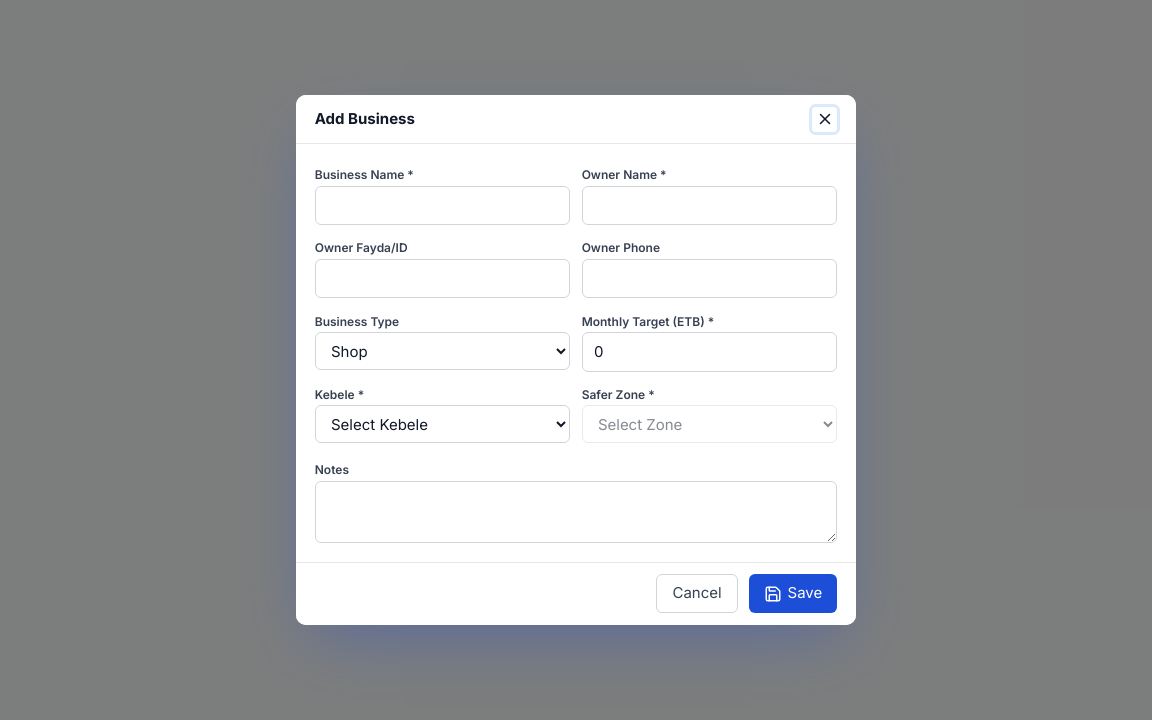
Test: Business form validation (real component) › rejects an invalid Fayda id (not 12 digits)
Type "New Shop" into the field labelled "Business Name *" at {"x": 443, "y": 205}, box [315,186,570,225]
Type "Owner X" into the field labelled "Owner Name *" at {"x": 709, "y": 205}, box [582,186,837,225]
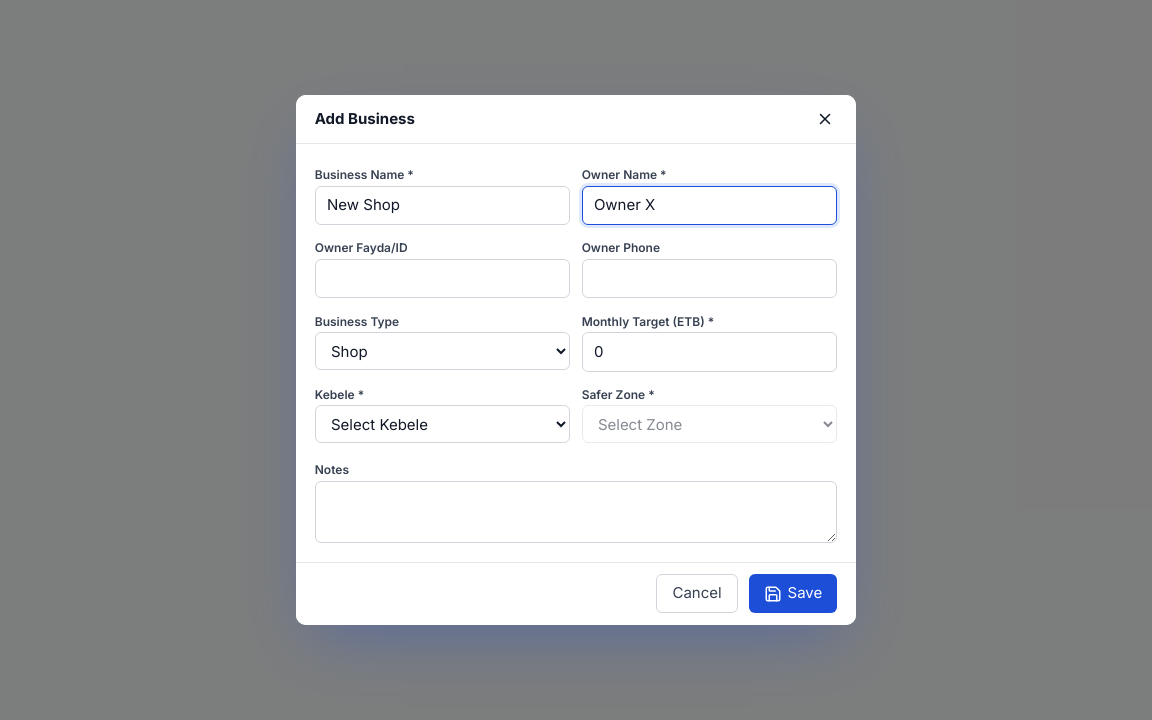
Type "12345" into the field labelled "Owner Fayda/ID" at {"x": 443, "y": 279}, box [315,259,570,298]
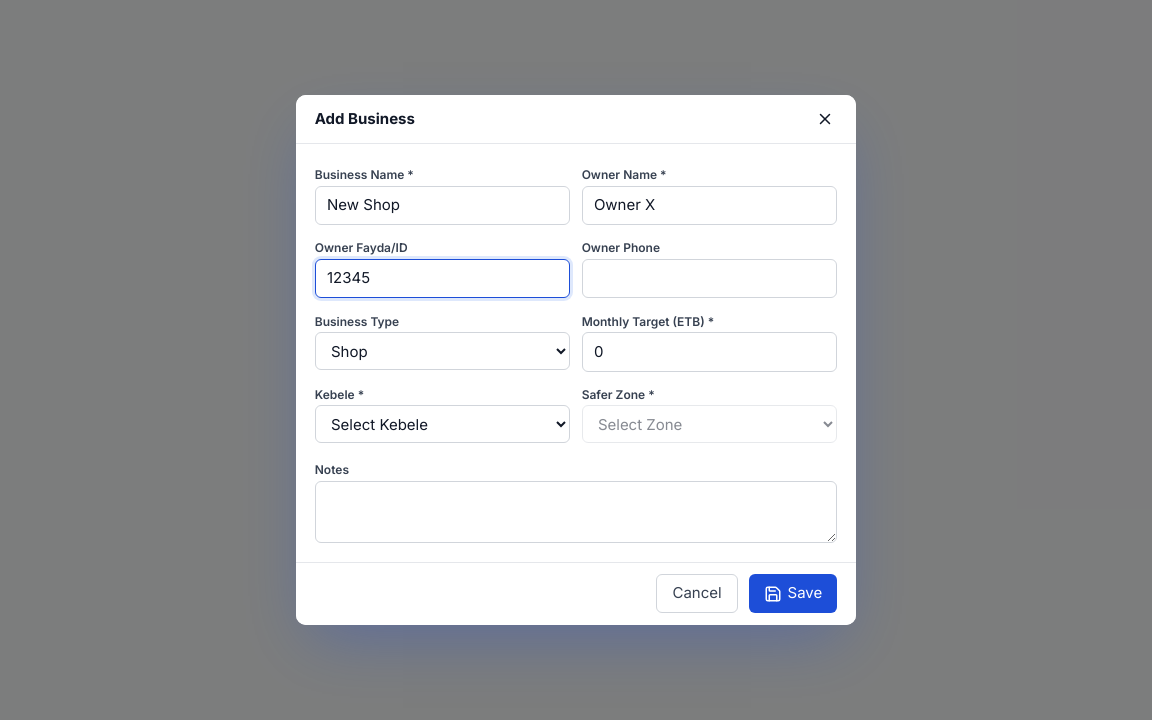
Replace the text in the number field labelled "Monthly Target (ETB) *" with "500" at {"x": 709, "y": 352}, box [582,332,837,372]
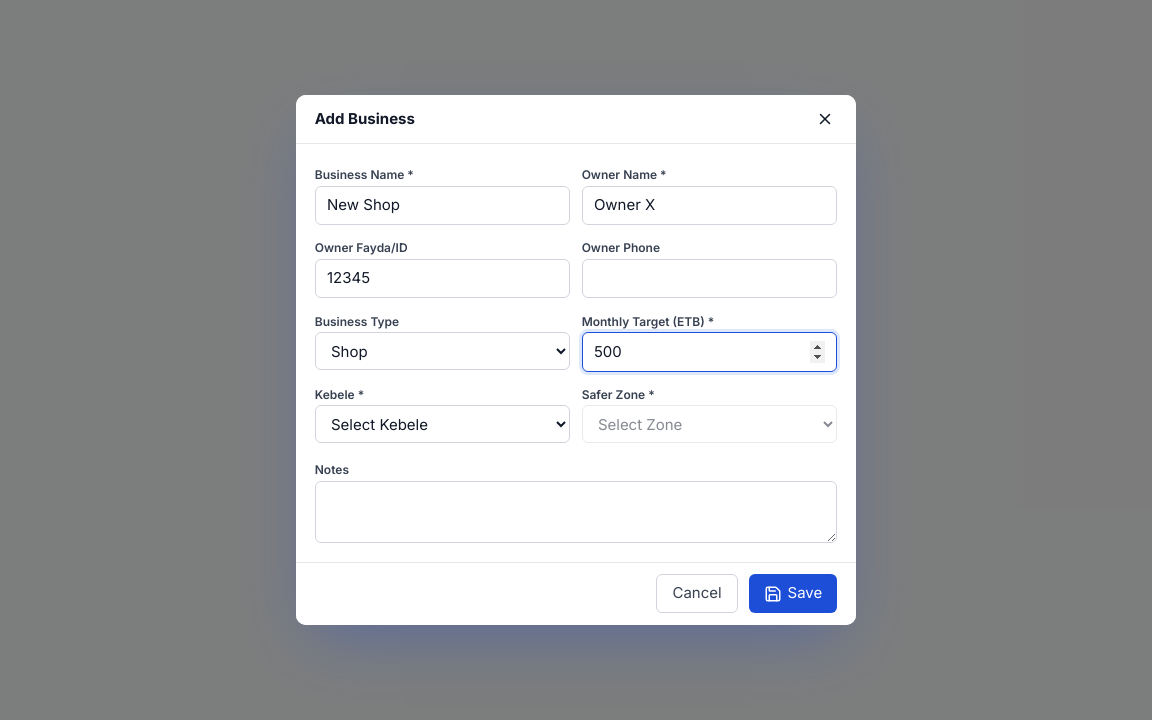
Select "K05" in the dropdown labelled "Kebele *" at {"x": 443, "y": 424}, box [315,405,570,443]
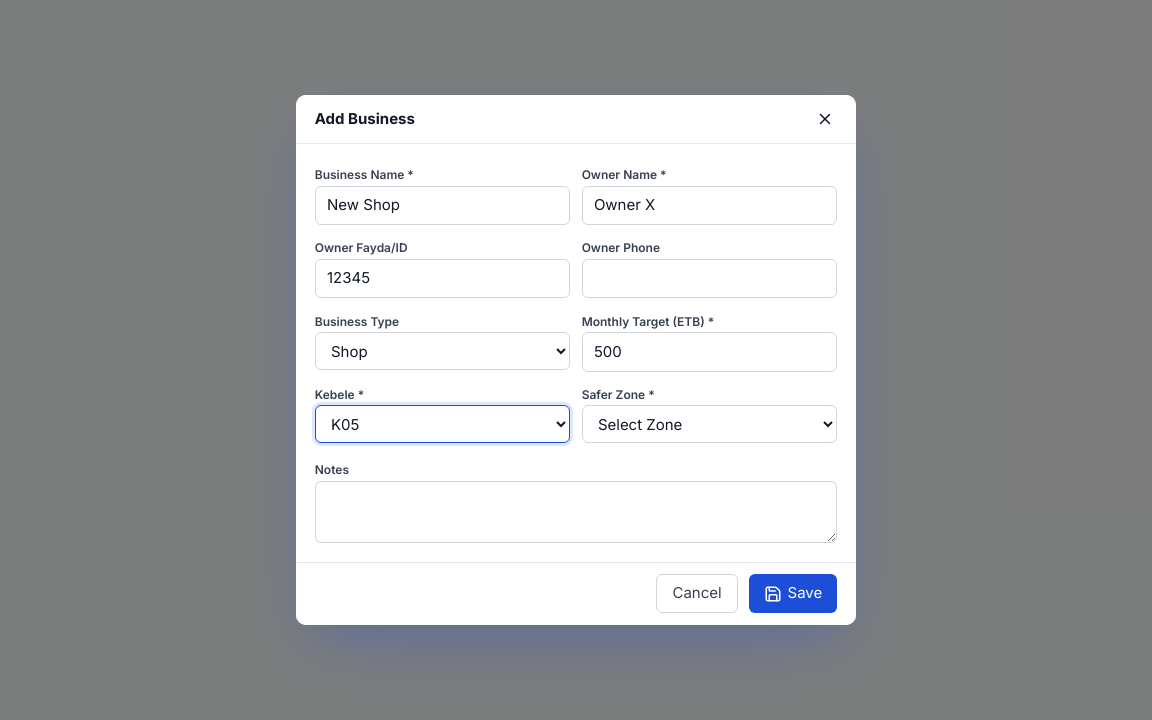
Check: the dropdown labelled "Safer Zone *" is enabled
Select "Zone 10" in the dropdown labelled "Safer Zone *" at {"x": 709, "y": 424}, box [582,405,837,443]
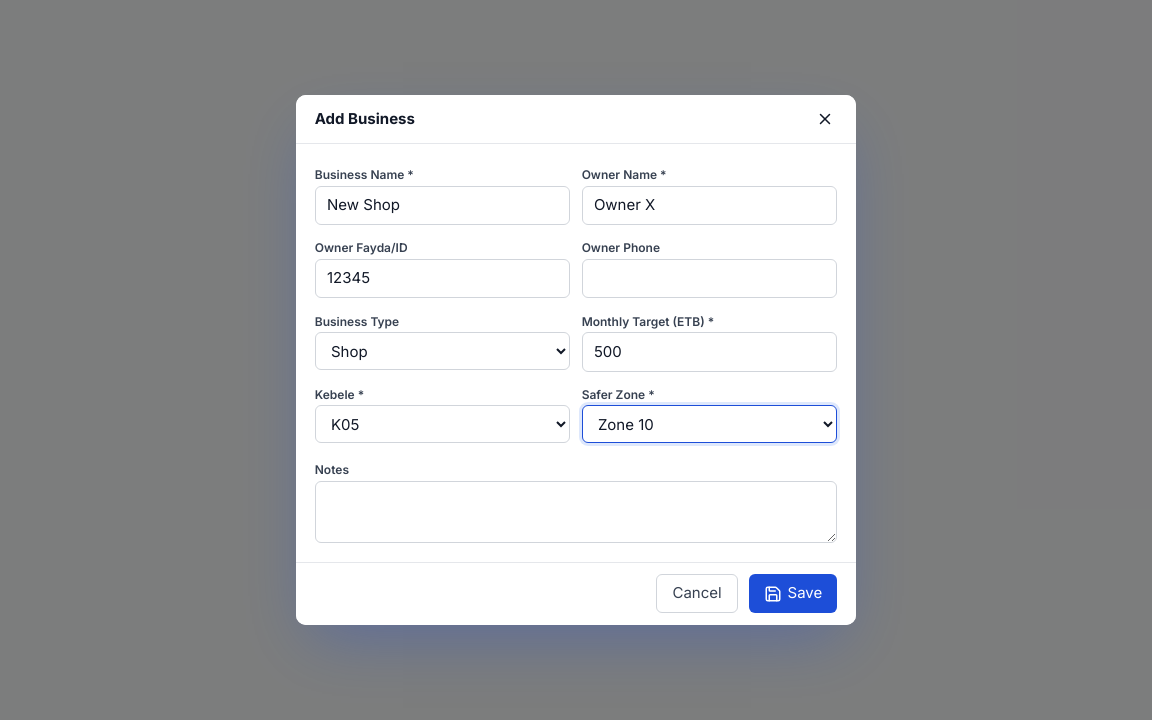
Click the button "Save" at {"x": 793, "y": 594}, box [749,574,837,613]
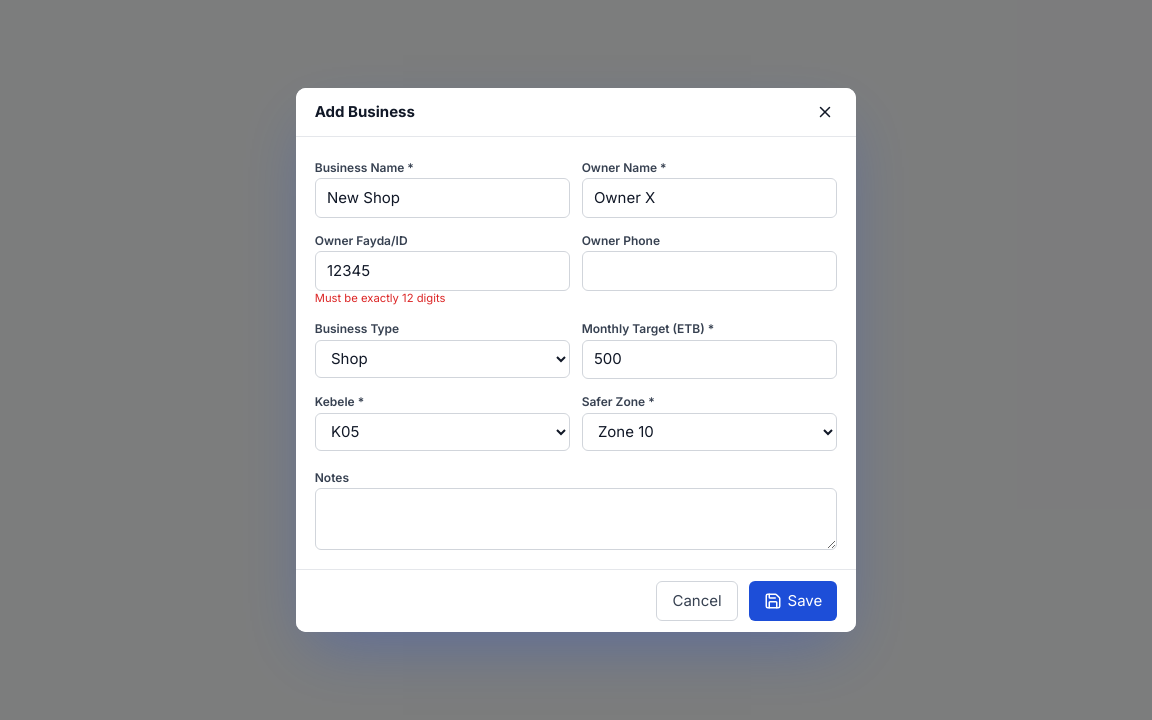
Check: the text "Must be exactly 12 digits" is shown, box [315,291,446,305]
